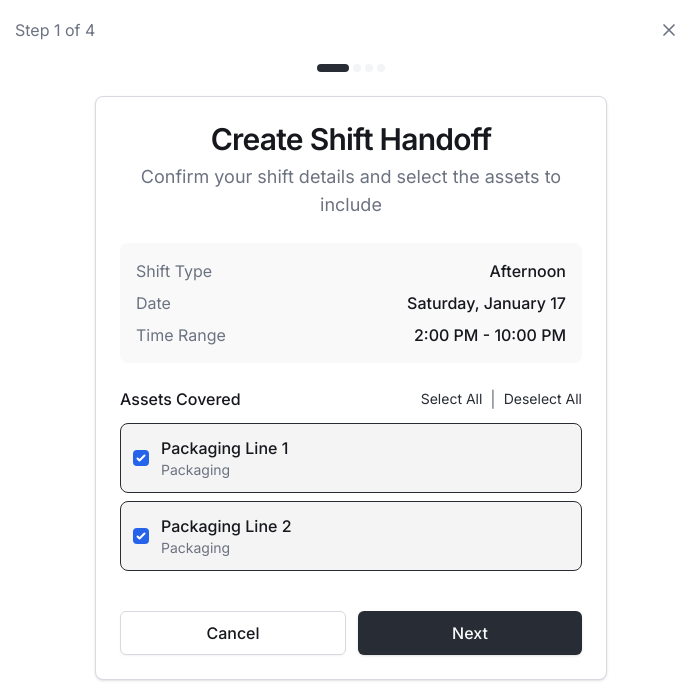
Scenario: HandoffCreator › navigates through wizard steps
Check: the heading "Create Shift Handoff" is shown, box [211, 121, 491, 157]
Click the button "Next".
click(470, 633)  # box [358, 611, 582, 655]
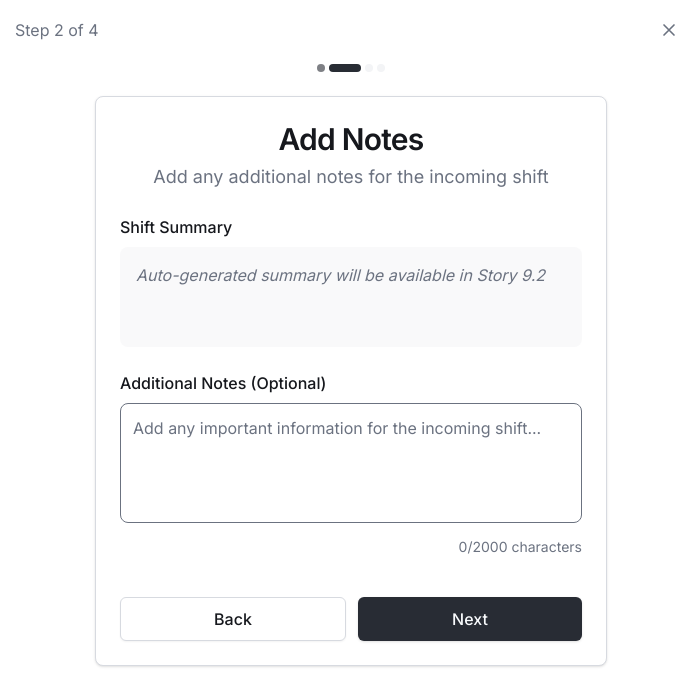
Check: the heading "Add Notes" is shown, box [278, 121, 424, 157]
Click the button "Next".
click(470, 619)  # box [358, 597, 582, 641]
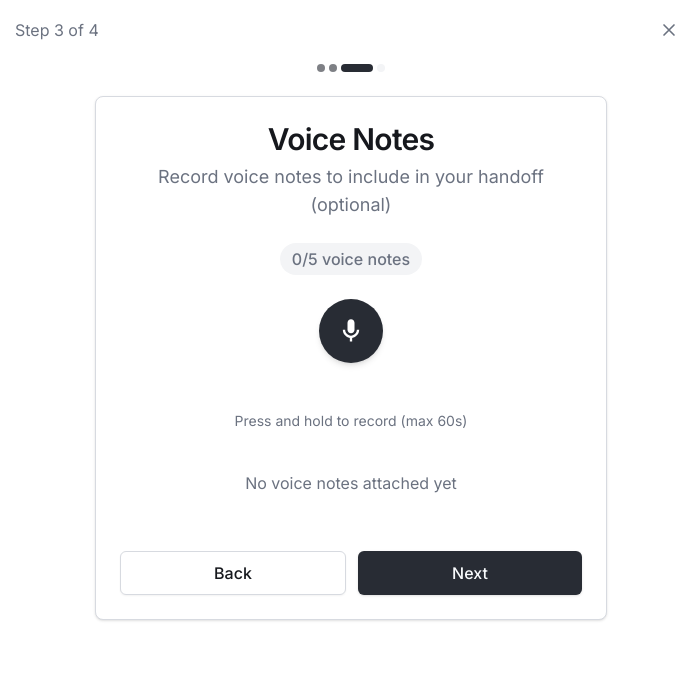
Check: the heading "Voice Notes" is shown, box [268, 121, 434, 157]
Click the button "Next".
click(470, 573)  # box [358, 551, 582, 595]
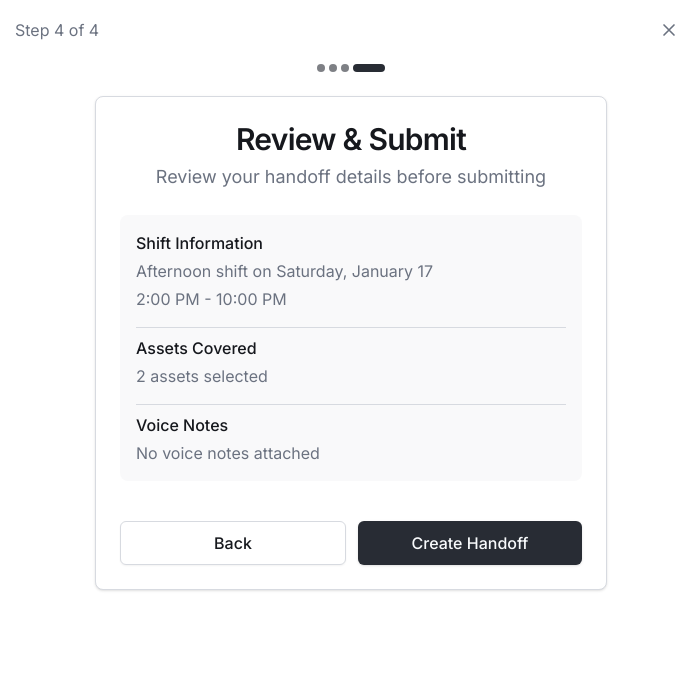
Check: the heading "Review & Submit" is shown, box [236, 121, 466, 157]
